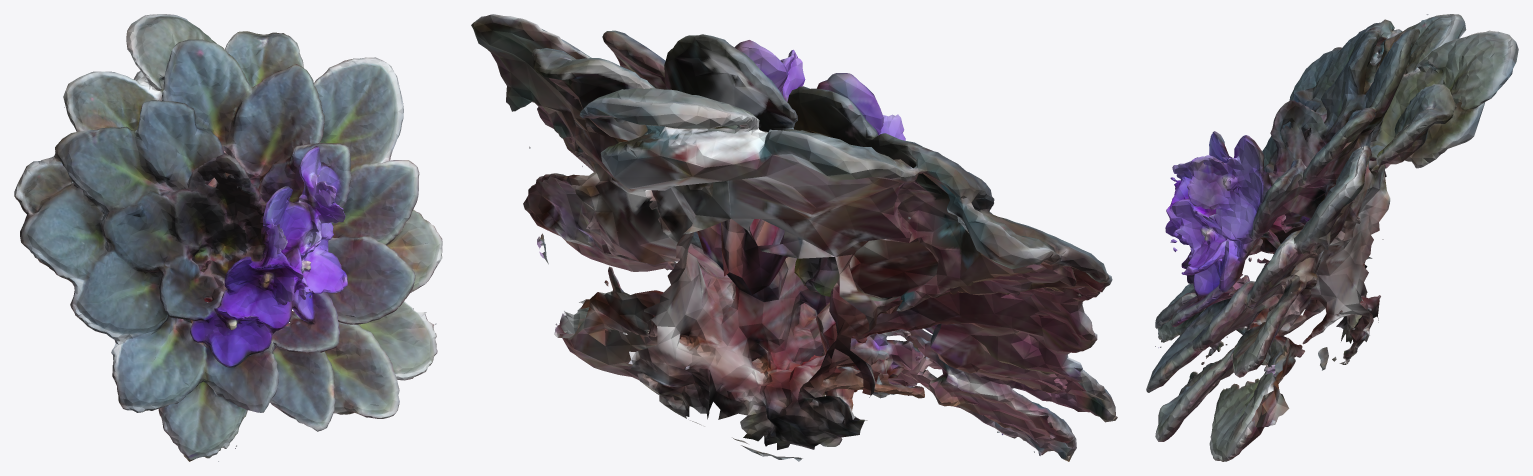
The model's file is campanilla_azul.fbx.
3 views of the same model, side by side, from view 1: azimuth 30°, elevation 25°; view 2: azimuth 150°, elevation 25°; view 3: azimuth 270°, elevation 25° (orthographic). The views are drawn at different scales.
Parts seen in each view (by area): view 1: violets; view 2: violets; view 3: violets.
Part boxes in pixels (x1,y1,x2,y2): violets: (14, 14, 442, 461); violets: (471, 14, 1117, 461); violets: (1146, 14, 1518, 461).
Size of the model in its own units: 289 by 225 by 210.
1 material, 1 textured.
